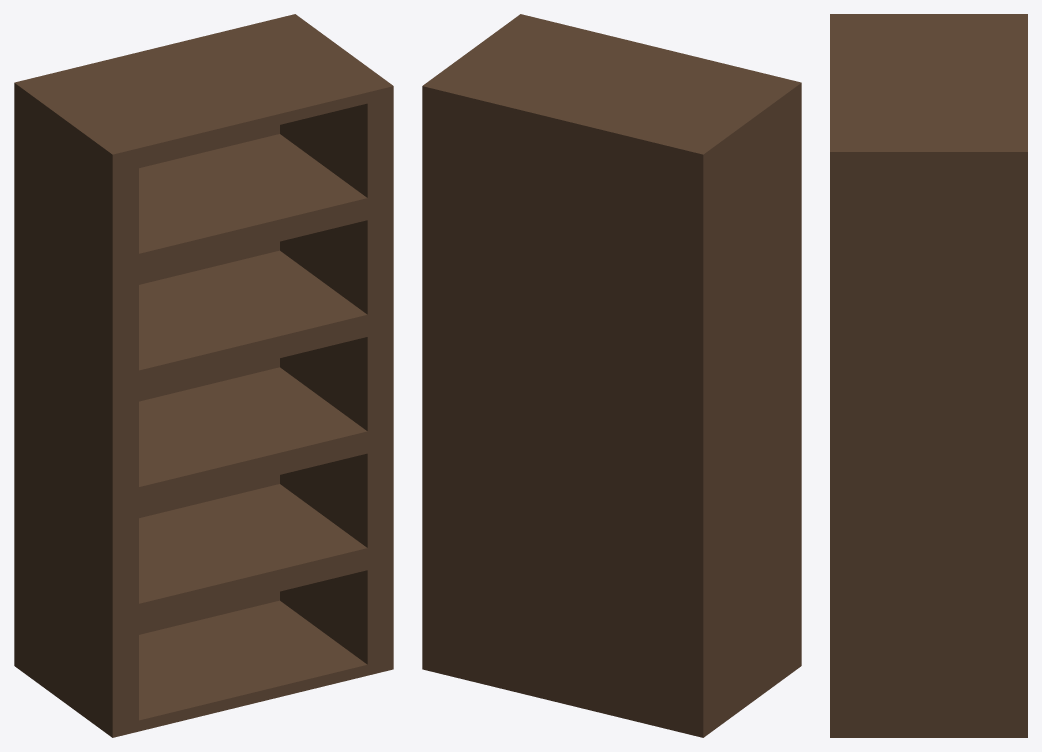
Rendered from Bookshelf.glb.
The picture shows the model from 3 angles, left to right: view 1: azimuth 30°, elevation 25°; view 2: azimuth 150°, elevation 25°; view 3: azimuth 270°, elevation 25°; orthographic projection.
Visible parts, largest first — view 1: Cube; view 2: Cube; view 3: Cube.
Part boxes in pixels (x1,y1,x2,y2): Cube: [14, 14, 393, 737]; Cube: [422, 14, 801, 737]; Cube: [830, 14, 1027, 737].
Size of the model in its own units: 3.7 by 7.34 by 2.24.
